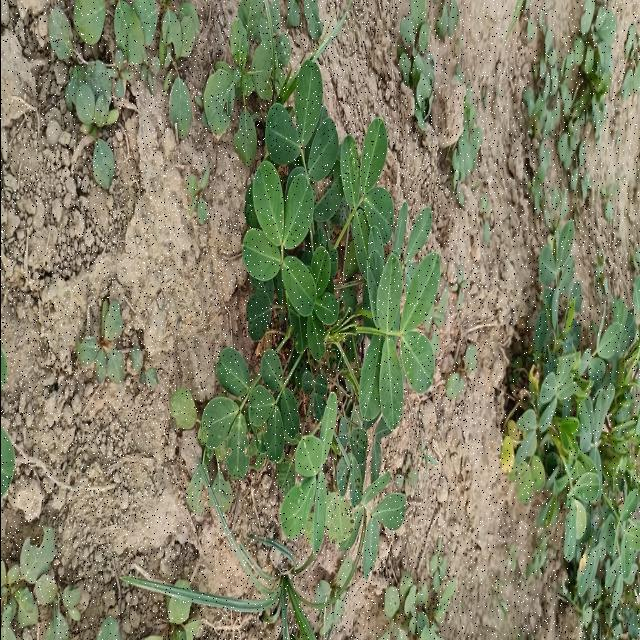plant: (170, 0, 440, 576)
